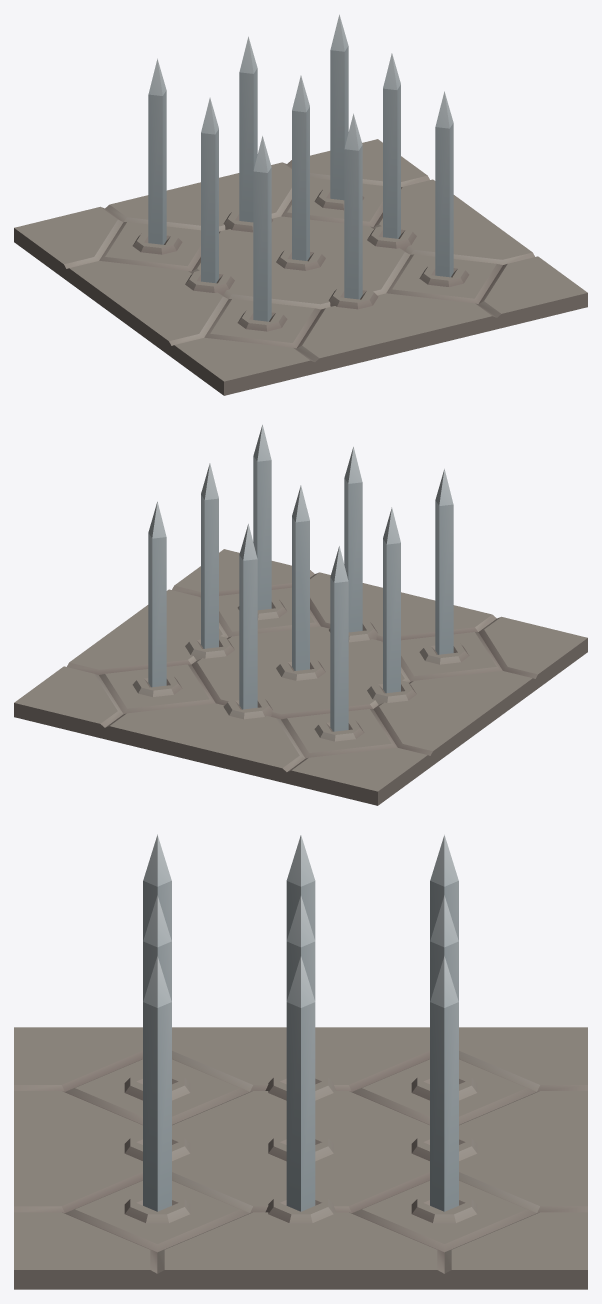
File: floor_tile_big_spikes.glb
3 views of the same model, one above another, from view 1: azimuth 30°, elevation 25°; view 2: azimuth 150°, elevation 25°; view 3: azimuth 270°, elevation 25° (orthographic). The views are drawn at different scales.
Parts seen in each view (by area): view 1: Cube.14376, spikes; view 2: Cube.14376, spikes; view 3: Cube.14376, spikes.
Part boxes in pixels (x1=…): Cube.14376: x1=14, y1=139, x2=587, y2=395; spikes: x1=148, y1=14, x2=453, y2=321; Cube.14376: x1=14, y1=549, x2=587, y2=805; spikes: x1=148, y1=424, x2=453, y2=731; Cube.14376: x1=14, y1=1027, x2=587, y2=1289; spikes: x1=143, y1=834, x2=458, y2=1211.
Bounding box in the file's own units: 4 × 2.1 × 4.
1 material, 1 textured.
